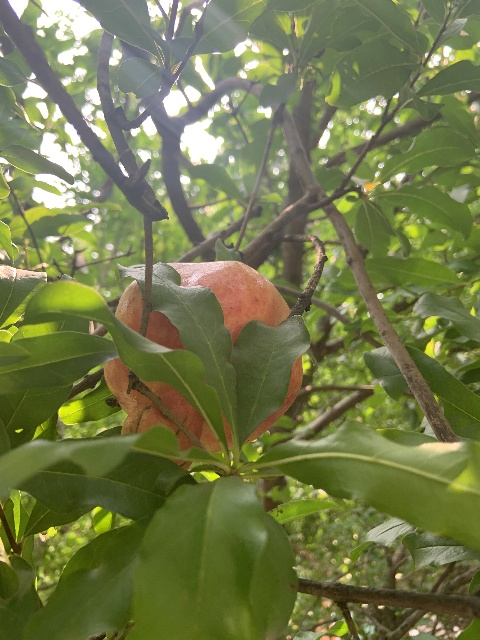ripe: (101, 261, 303, 464)
